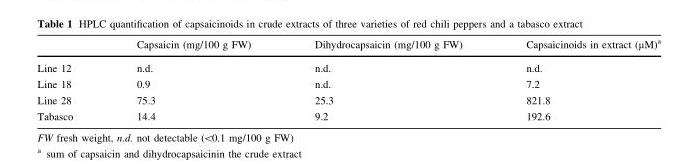table: (36, 37, 660, 121)
table column: (282, 37, 493, 121), (104, 37, 282, 121), (493, 37, 660, 121), (36, 37, 104, 121)
table column header: (36, 37, 660, 56)
table row: (36, 56, 660, 76), (36, 37, 660, 56), (36, 76, 660, 92), (36, 92, 660, 108), (36, 108, 660, 121)
